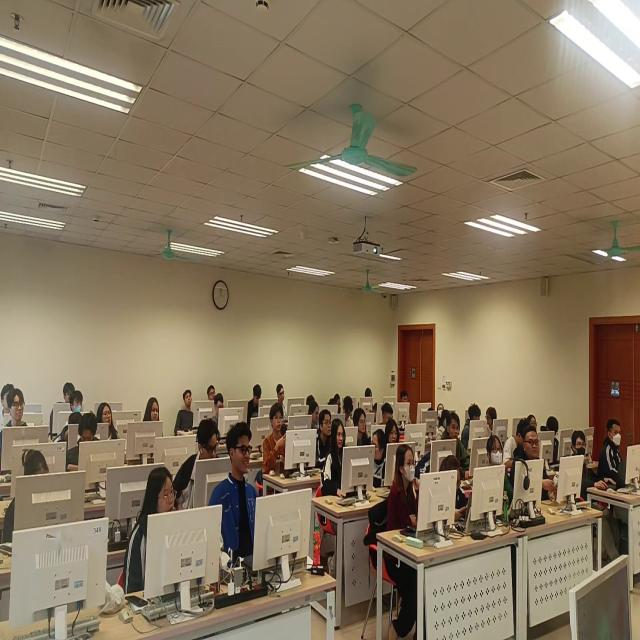raise_head: (211, 419, 264, 565), (121, 463, 178, 595), (513, 428, 562, 506), (387, 442, 426, 539), (570, 427, 613, 491), (1, 385, 29, 481), (597, 417, 634, 484), (262, 401, 294, 476), (486, 433, 515, 510), (441, 410, 473, 473), (314, 404, 333, 468), (174, 390, 196, 437), (99, 399, 121, 443), (1, 382, 17, 430), (142, 395, 164, 426), (437, 408, 452, 442), (276, 382, 291, 416), (401, 389, 414, 427), (70, 388, 88, 415), (64, 381, 75, 405), (528, 412, 539, 430), (208, 385, 219, 401), (437, 400, 444, 421)
sleep: (416, 442, 441, 480)
using_computer: (1, 446, 53, 549), (172, 415, 224, 510), (320, 416, 355, 502), (67, 409, 100, 471), (503, 418, 530, 466), (542, 415, 563, 466), (56, 409, 86, 443), (354, 407, 372, 447), (247, 383, 263, 424), (212, 393, 227, 426), (341, 395, 354, 430), (386, 417, 400, 448), (380, 401, 396, 425), (329, 392, 343, 417), (370, 400, 379, 425), (305, 392, 317, 408), (365, 385, 374, 402), (427, 404, 437, 416)
using_phone: (438, 452, 474, 526)
